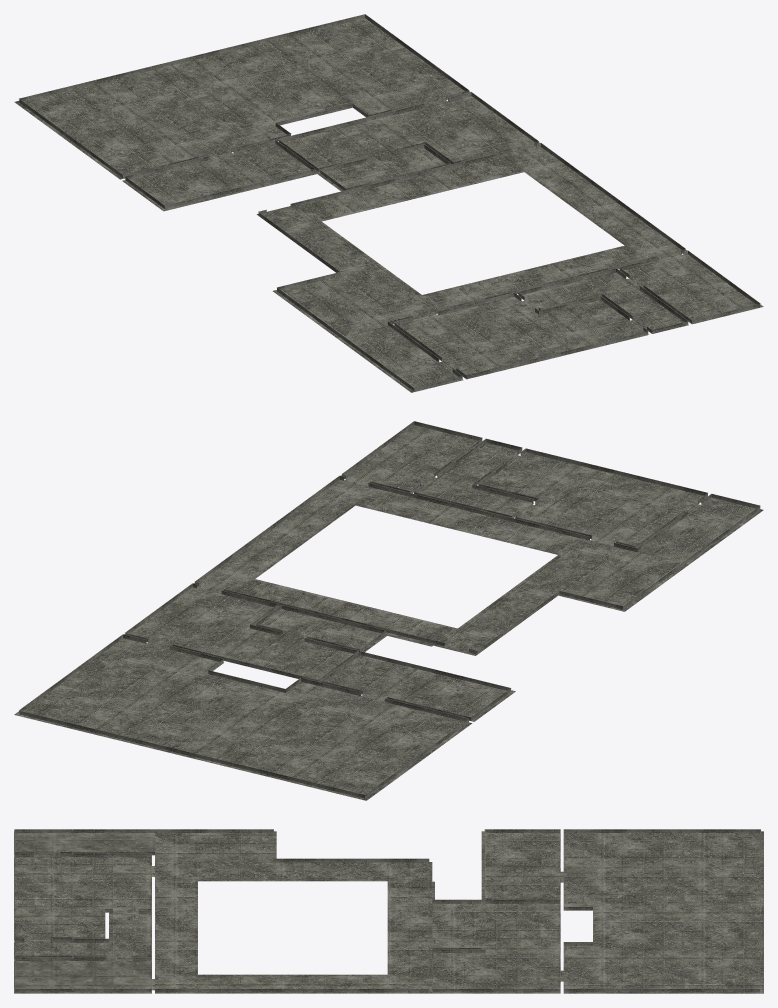
The model's file is A2_H2_Floor.FBX.
3 views of the same model, one above another, from view 1: azimuth 30°, elevation 25°; view 2: azimuth 150°, elevation 25°; view 3: azimuth 270°, elevation 25° (orthographic). The views are drawn at different scales.
Parts seen in each view (by area): view 1: A2_H2_Floor; view 2: A2_H2_Floor; view 3: A2_H2_Floor.
Part boxes in pixels (<box>): A2_H2_Floor: <box>14,14,763,392</box>; A2_H2_Floor: <box>14,421,763,800</box>; A2_H2_Floor: <box>14,829,763,993</box>.
Bounding box in the file's own units: 1830 × 18.81 × 3573.
